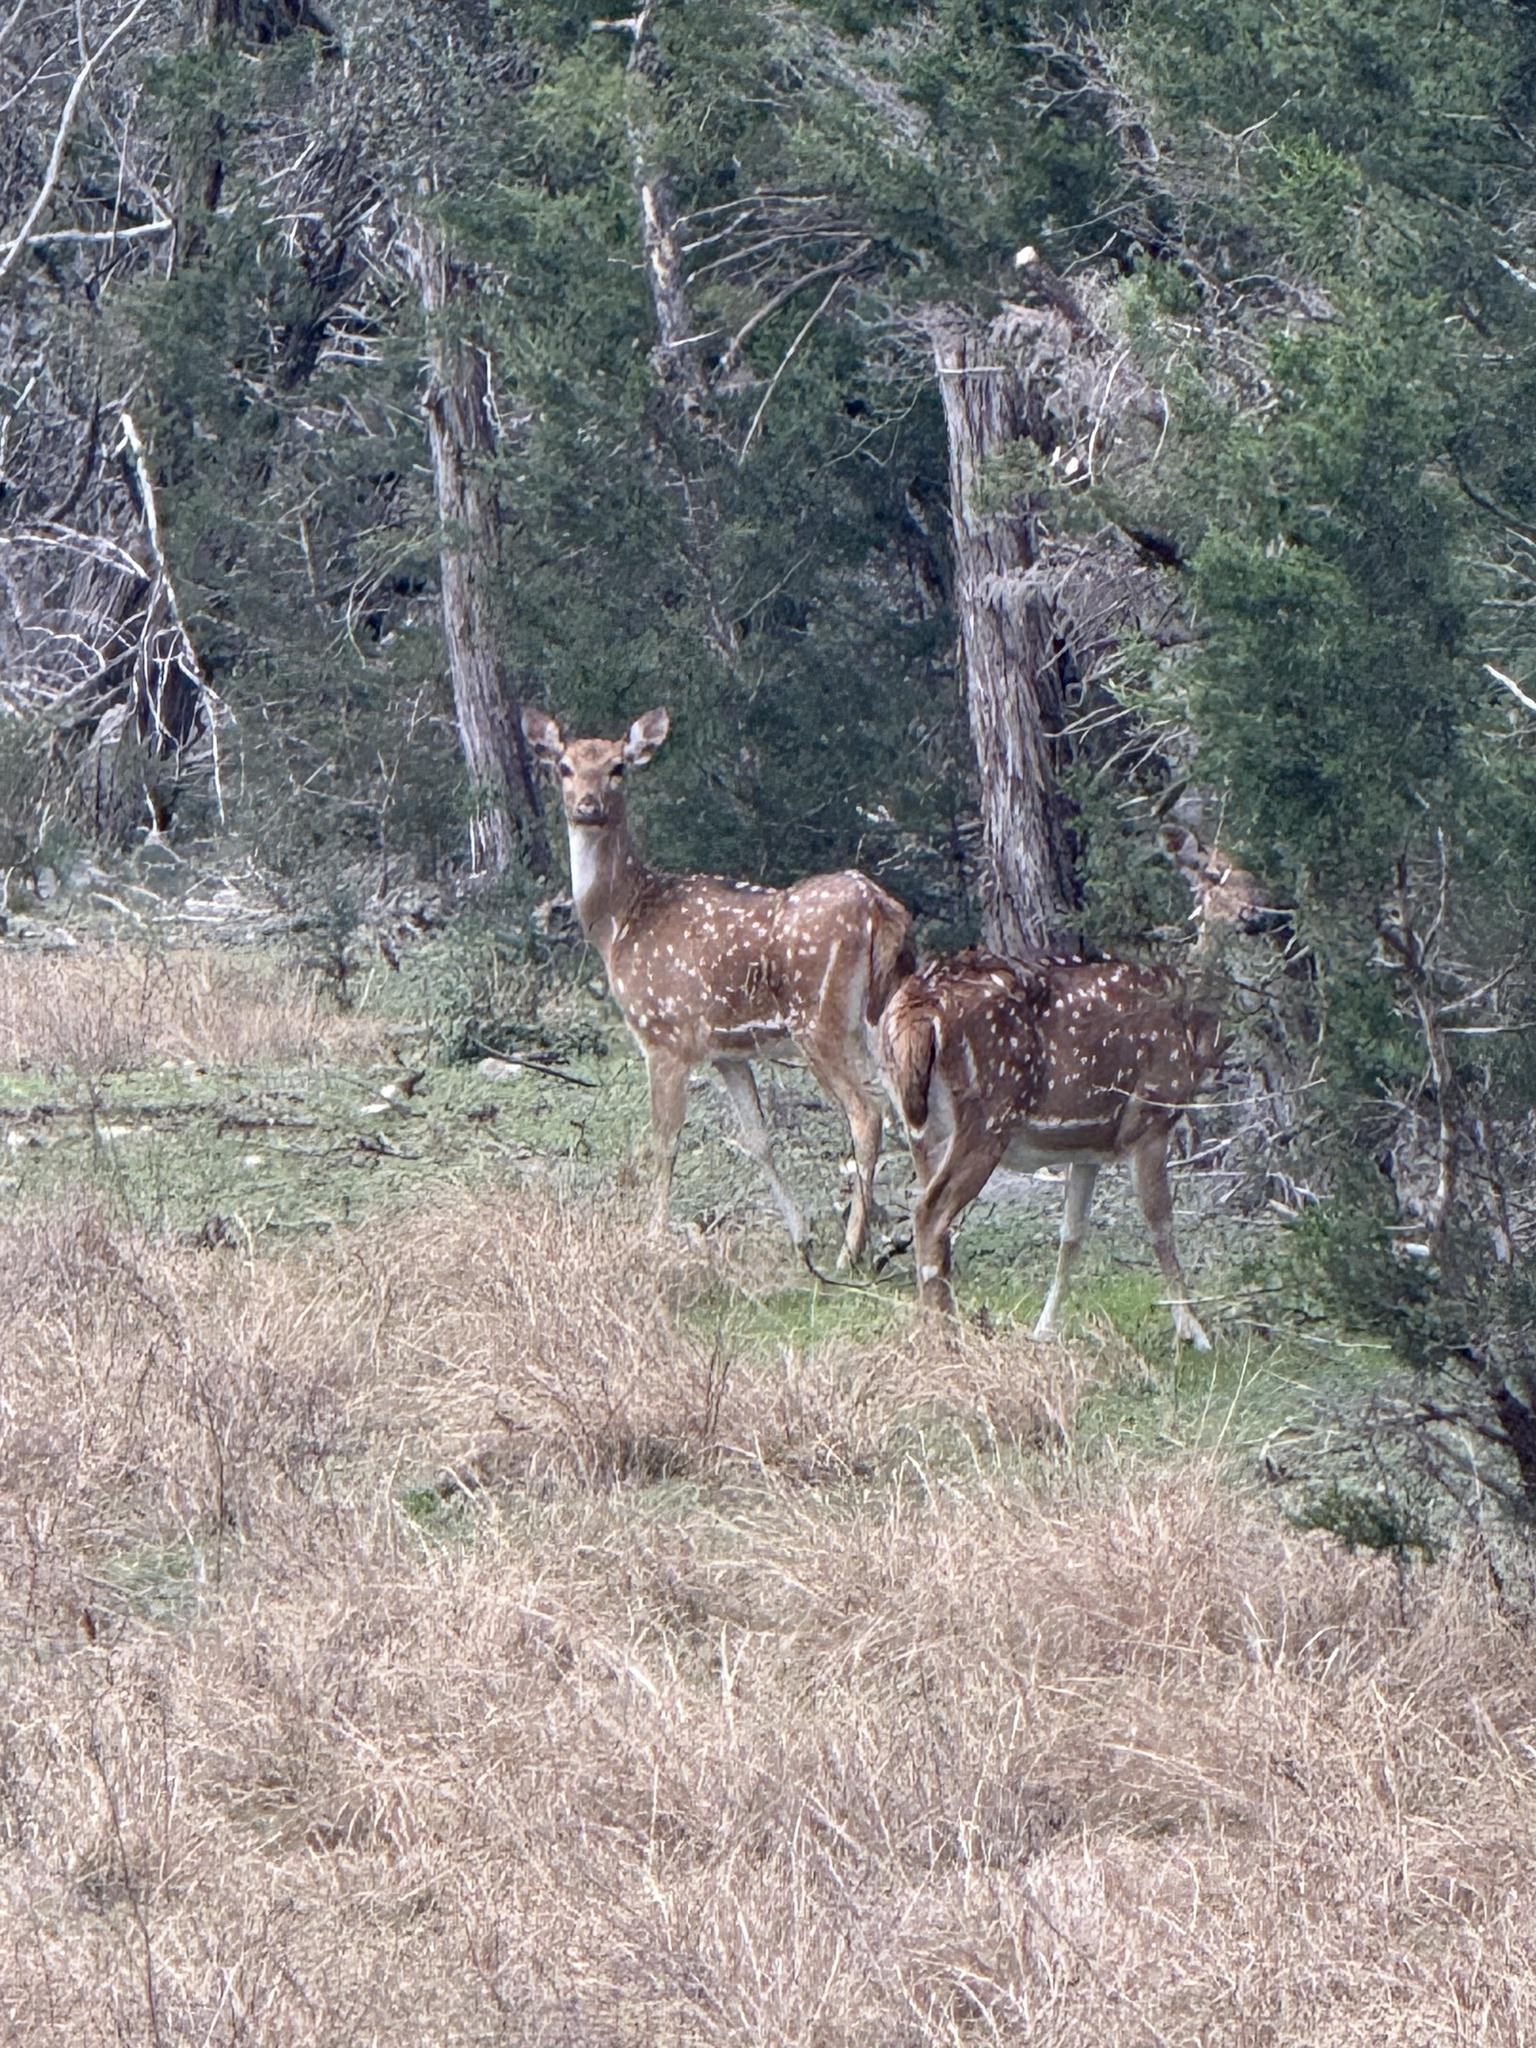Deer: (526, 706, 912, 1271), (874, 951, 1220, 1348)
